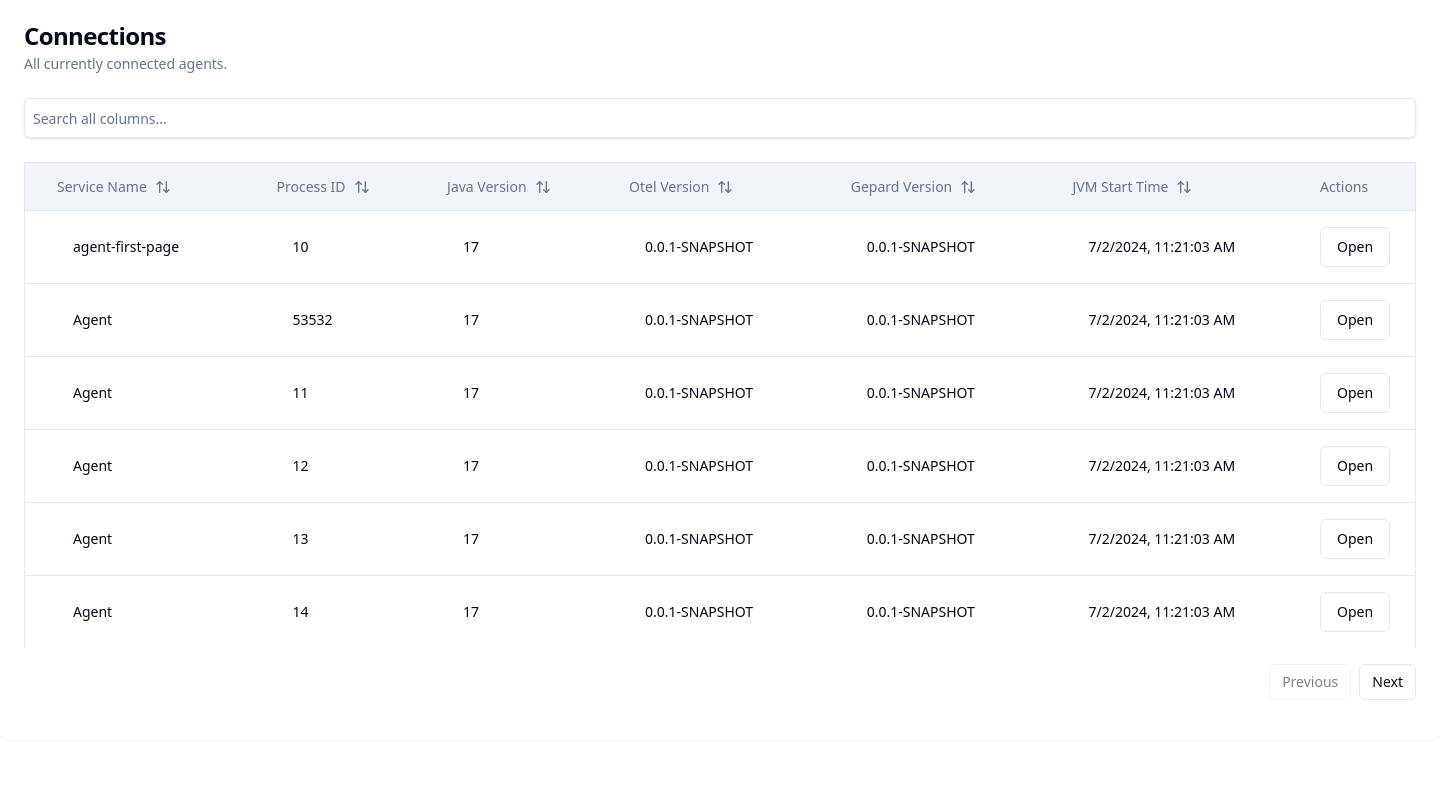
Test: Connection Table › ConnectionsTable renders other elements at click on "next" and "previous".
Expected: the text "agent-first-page" is shown, [73,237,179,256]
Expected: the text "agent-second-page" is not shown
Click the button "Next" at (1388, 682), box [1359,664,1416,700]
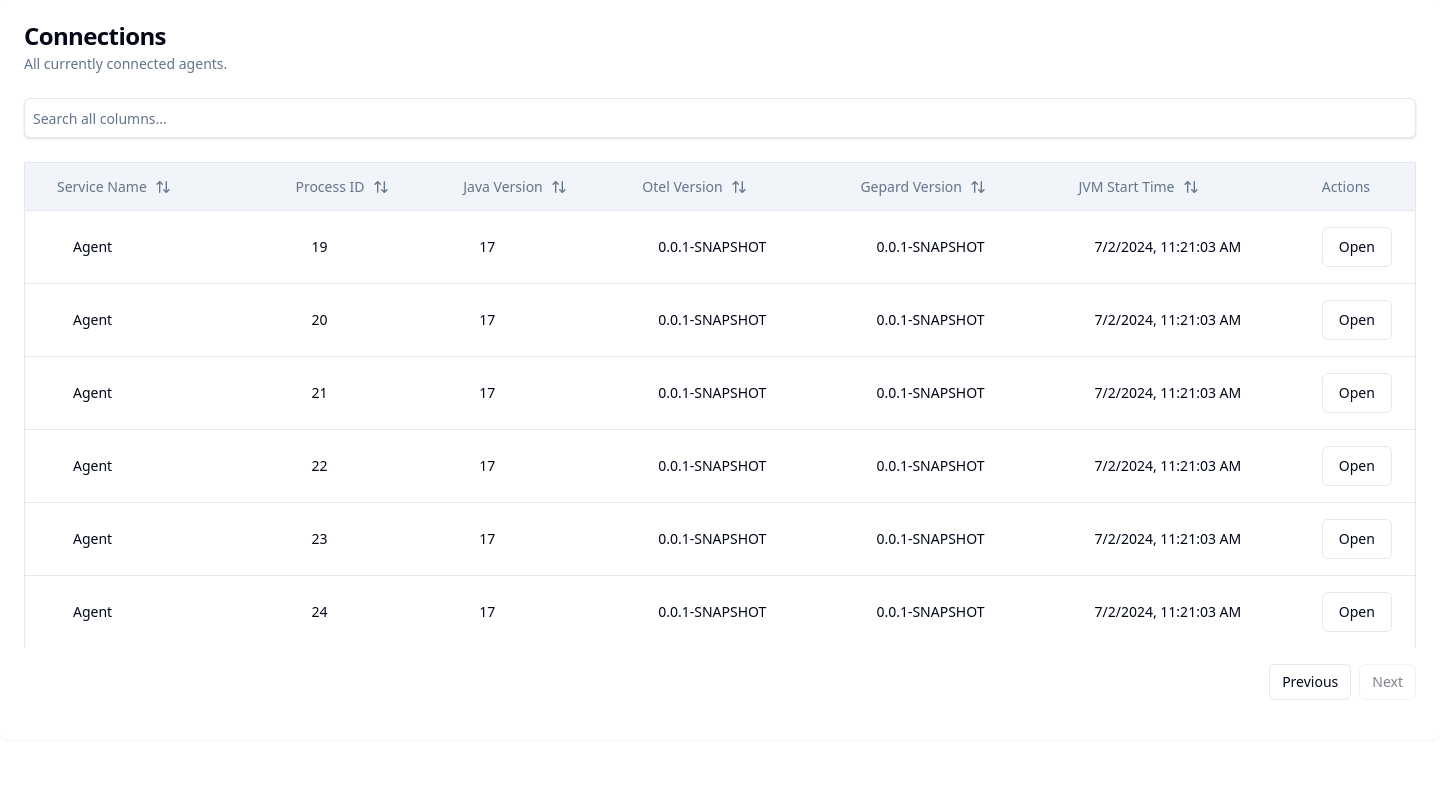
Expected: the text "agent-first-page" is gone
Click the button "Previous" at (1310, 682), box [1269,664,1351,700]
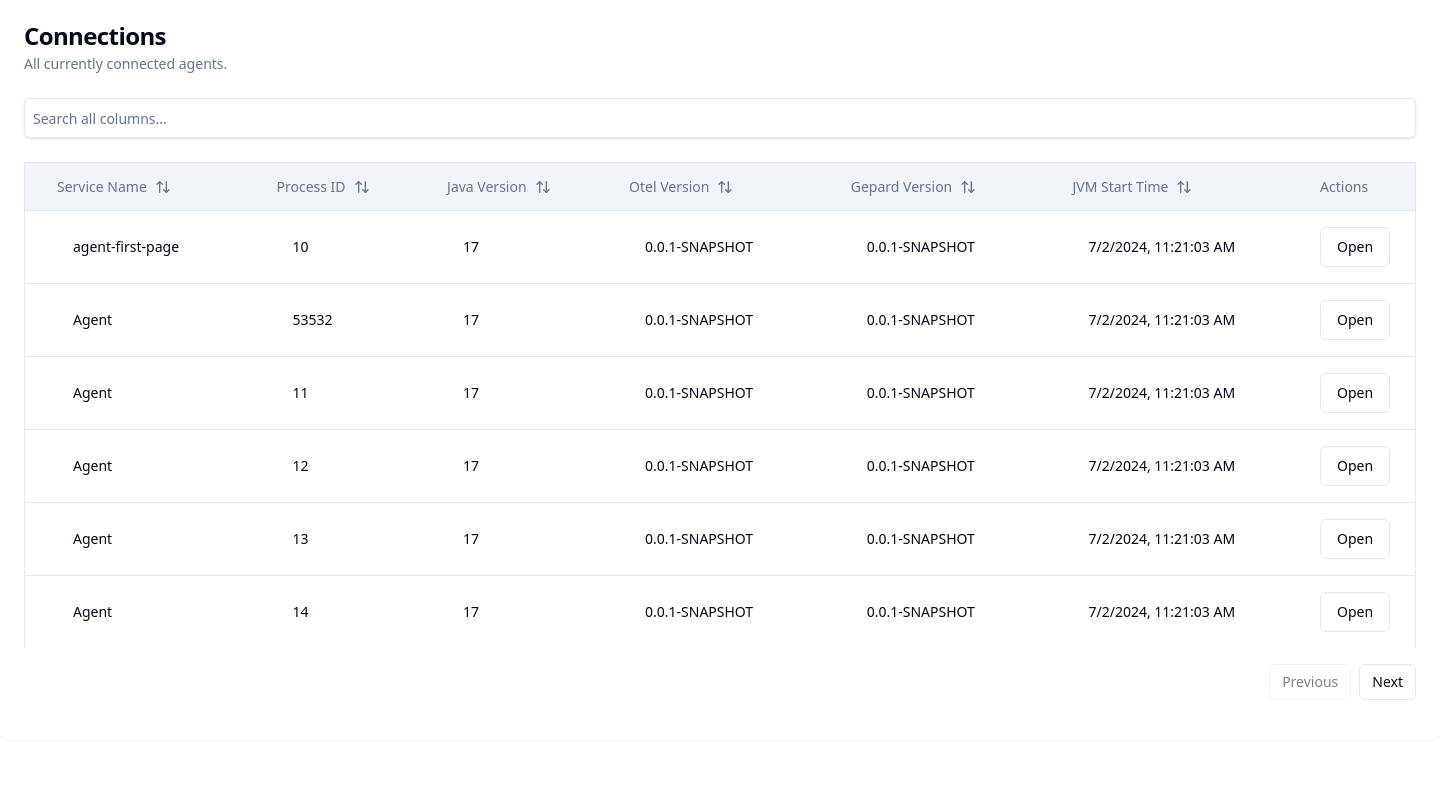
Expected: the text "agent-second-page" is not shown
Expected: the text "agent-first-page" is shown, [73,237,179,256]
